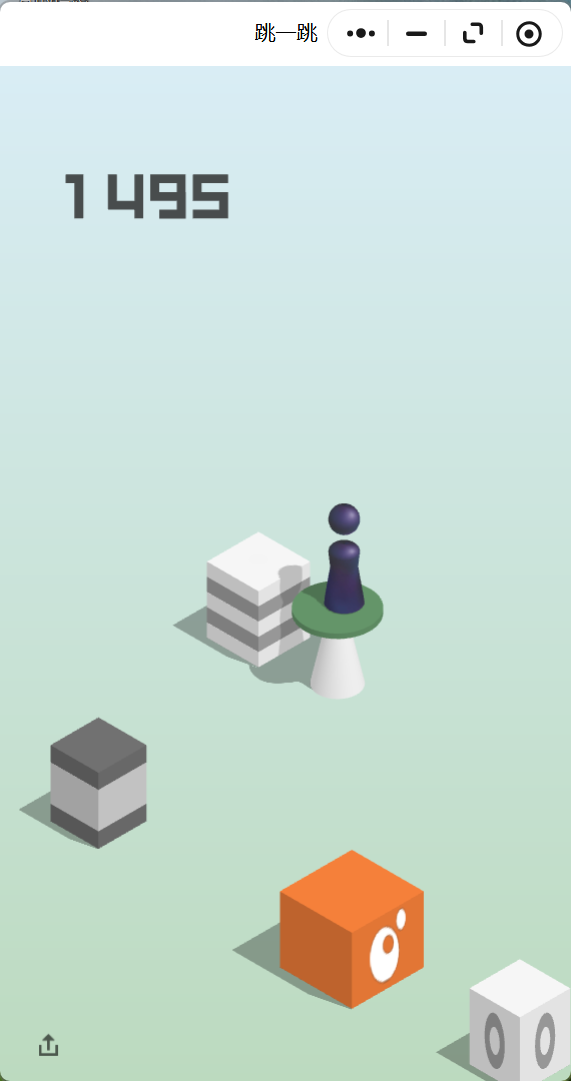piece: (328, 504, 360, 609)
target: (206, 532, 310, 590)
